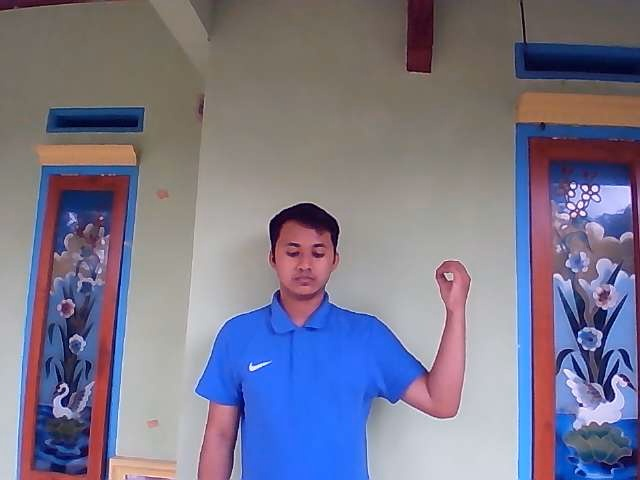O: (433, 258, 470, 309)
